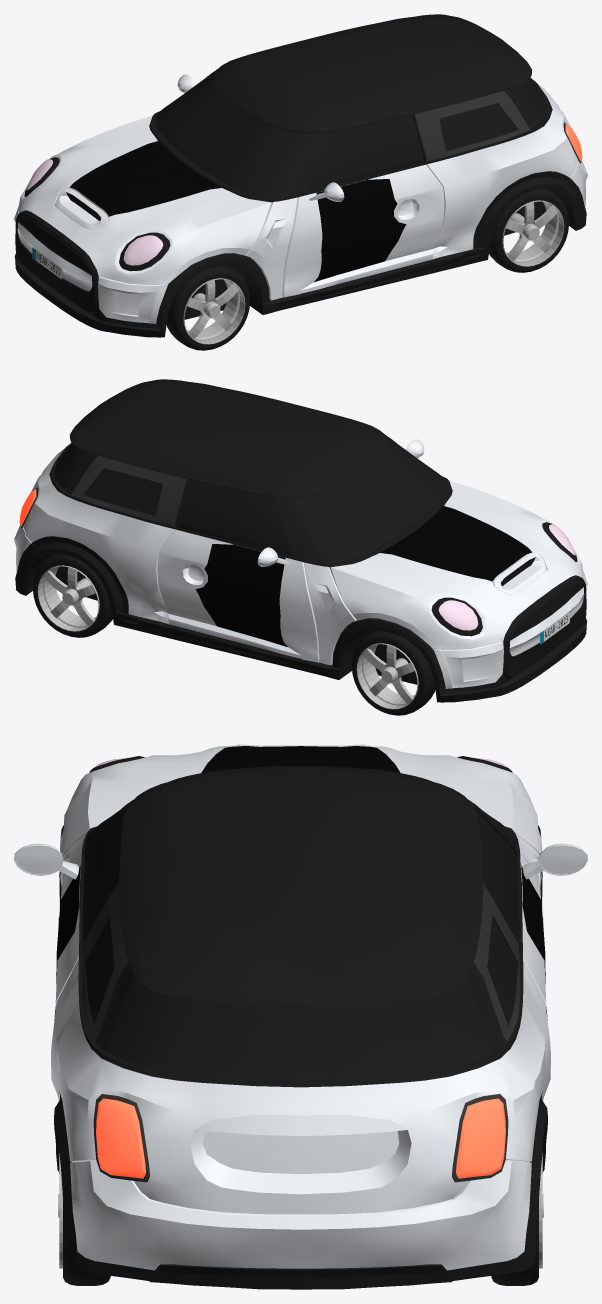
File: Minicoper_001.fbx
The picture shows the model from 3 angles, top to bottom: view 1: azimuth 30°, elevation 25°; view 2: azimuth 150°, elevation 25°; view 3: azimuth 270°, elevation 25°; orthographic projection. The views are drawn at different scales.
Visible parts, largest first — view 1: Minicoper; view 2: Minicoper; view 3: Minicoper.
Part boxes in pixels (box(x1,y1,x2,y2)): Minicoper: box(14, 14, 587, 350); Minicoper: box(14, 379, 587, 715); Minicoper: box(14, 744, 587, 1289).
Size of the model in its own units: 946 by 345 by 522.
